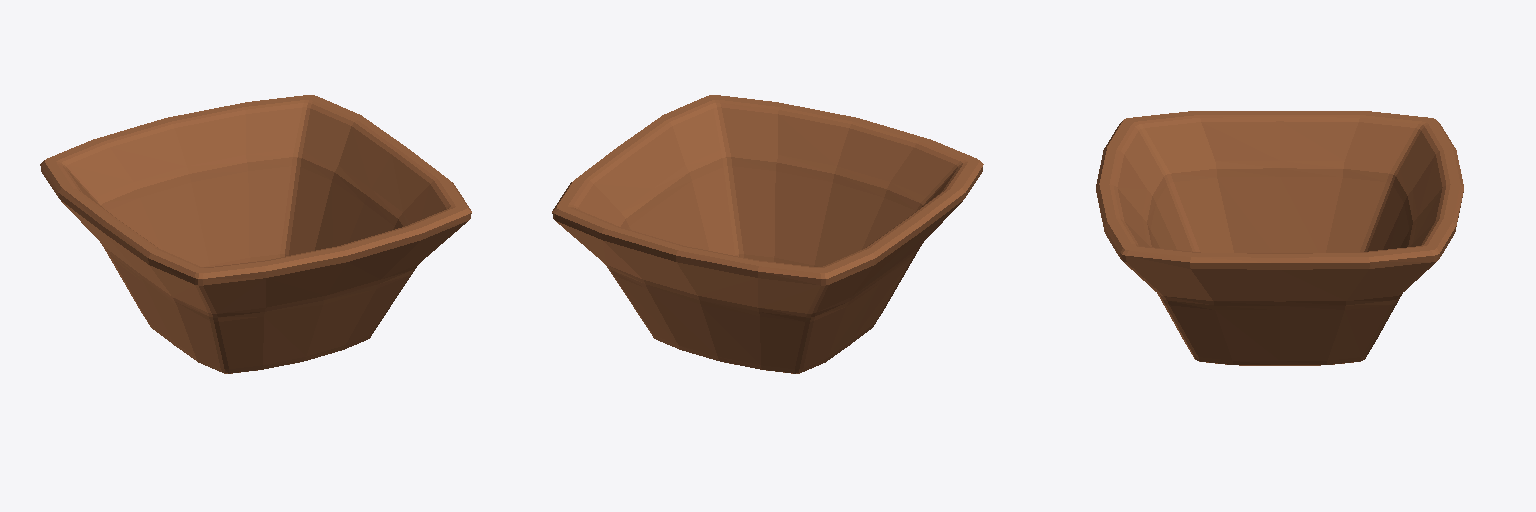
The model's file is Bowl_21_1.obj.
The picture shows the model from 3 angles: view 1: azimuth 30°, elevation 25°; view 2: azimuth 150°, elevation 25°; view 3: azimuth 270°, elevation 25°; orthographic projection.
Bounding box in the file's own units: 0.2367 × 0.1056 × 0.2455.